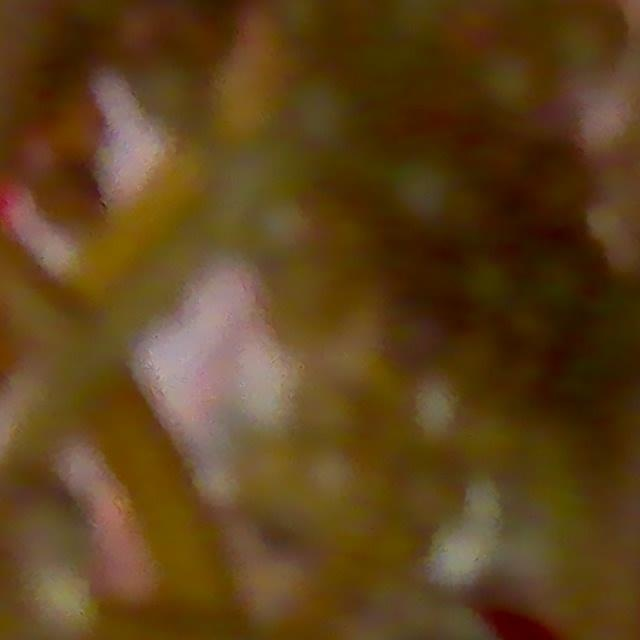SeaGrape: (378, 143, 479, 239), (464, 46, 553, 128), (540, 0, 626, 80), (131, 56, 210, 135), (287, 76, 363, 153), (245, 195, 321, 271), (31, 167, 109, 241), (293, 380, 368, 454), (395, 465, 469, 536), (455, 252, 522, 319), (48, 99, 111, 166), (300, 448, 359, 509)
